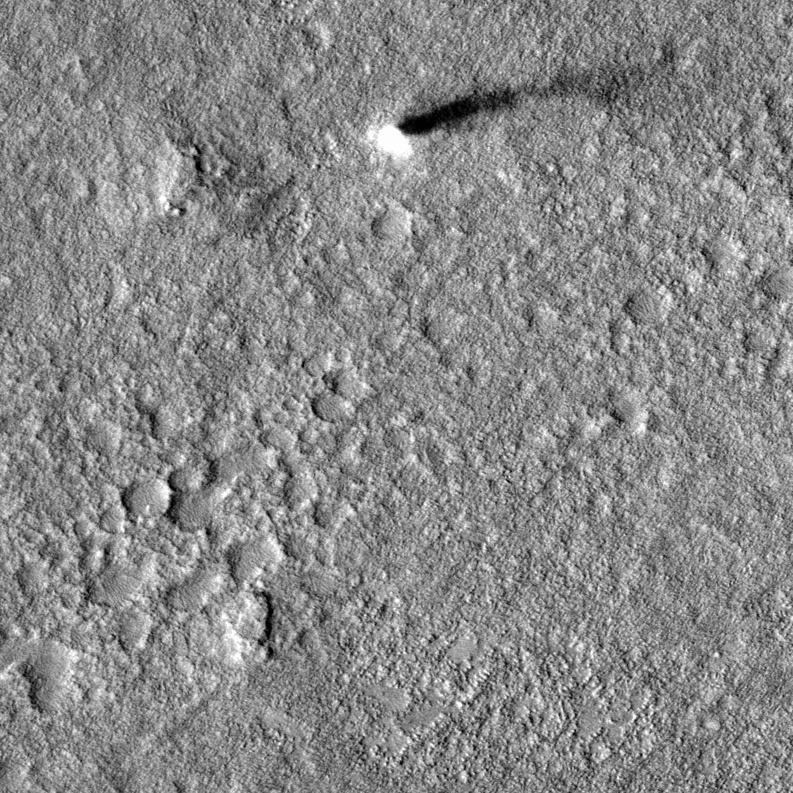dust_devil: (374, 59, 668, 163)
